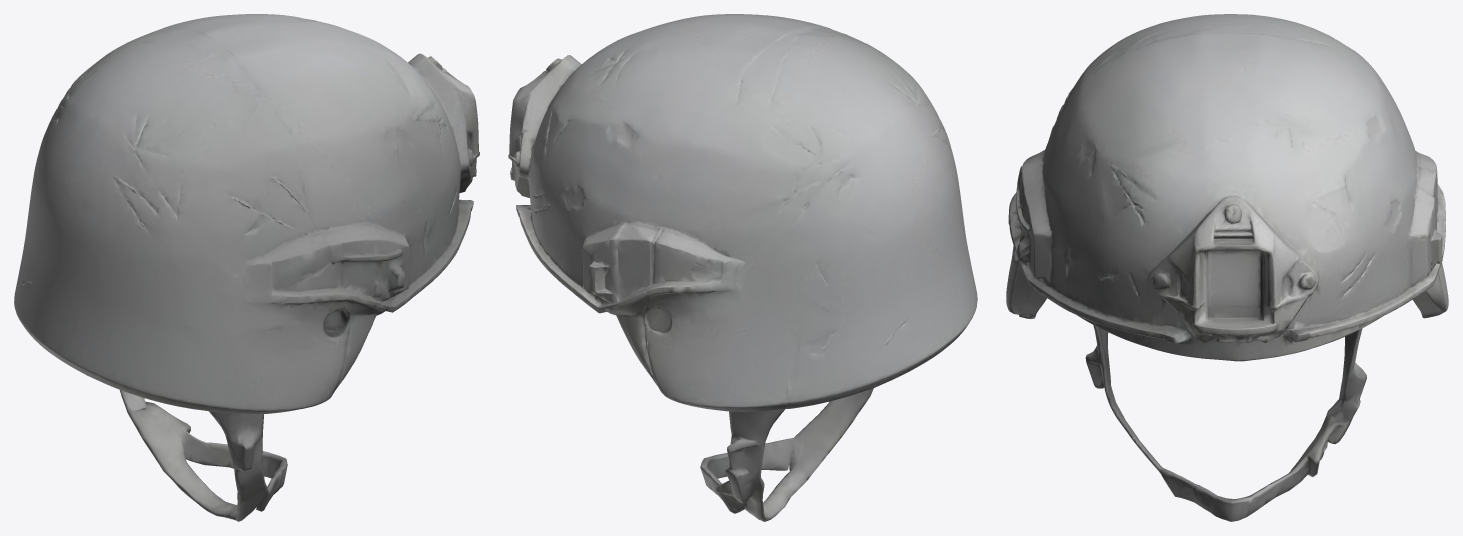
File: farda_capacete_militar.glb
3 views of the same model, side by side, from view 1: azimuth 30°, elevation 25°; view 2: azimuth 150°, elevation 25°; view 3: azimuth 270°, elevation 25° (orthographic).
Parts seen in each view (by area): view 1: tripo_node_e974381a-6055-4f55-afe3-c4f29984fd53; view 2: tripo_node_e974381a-6055-4f55-afe3-c4f29984fd53; view 3: tripo_node_e974381a-6055-4f55-afe3-c4f29984fd53.
Part boxes in pixels (x1,y1,x2,y2): tripo_node_e974381a-6055-4f55-afe3-c4f29984fd53: [14, 14, 479, 521]; tripo_node_e974381a-6055-4f55-afe3-c4f29984fd53: [508, 14, 977, 521]; tripo_node_e974381a-6055-4f55-afe3-c4f29984fd53: [1006, 14, 1448, 521].
Size of the model in its own units: 0.9437 by 1 by 0.8465.
Materials: 1 (1 with a texture image).
